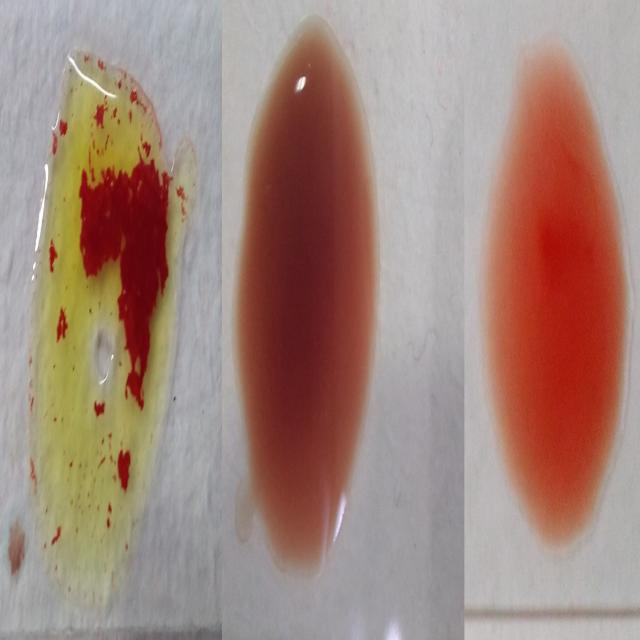B: (32, 55, 181, 592)
